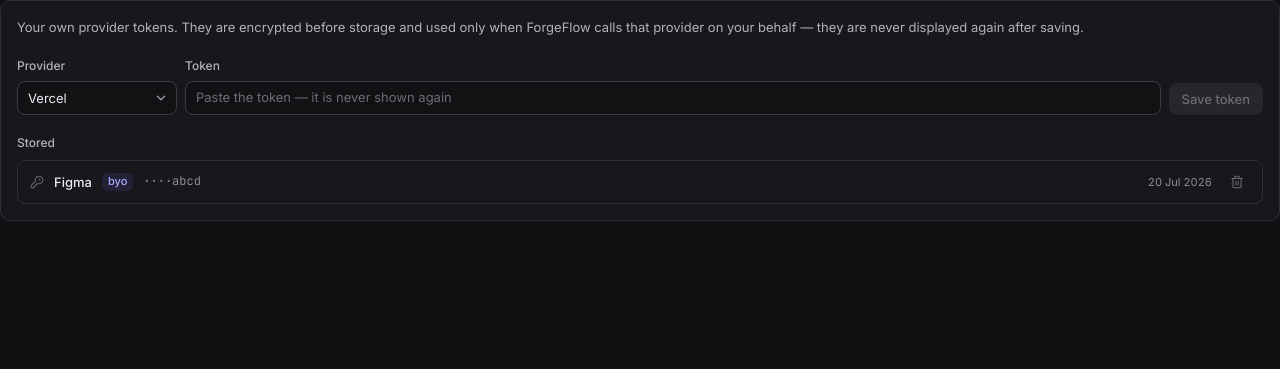
Credentials › deletes a stored token
Click the button with test id "credential-delete-figma": (1237, 182) top-left (1224, 169), bottom-right (1250, 195)
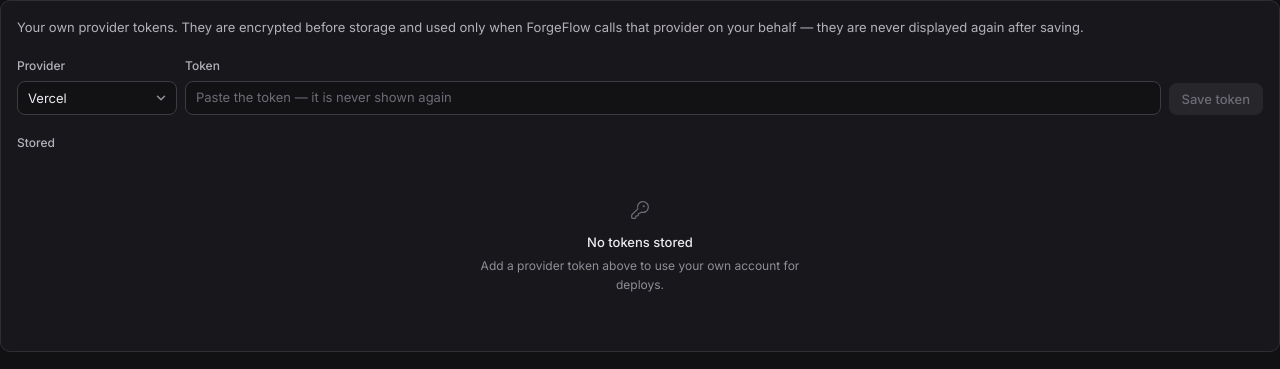
Now the list item with test id "credential-row-figma" is gone
